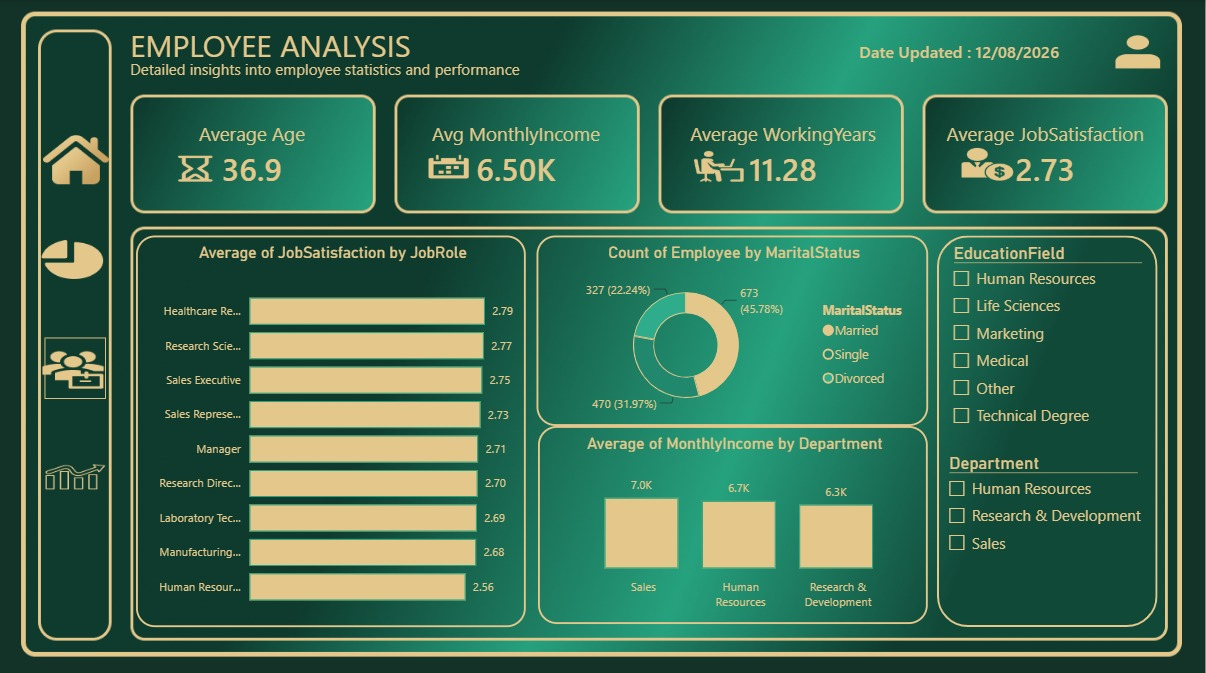

The dashboard page shown, as its layout file describes it:
{"tool":"powerbi","page":{"name":"employee analysis","canvas":[1280,720],"ordinal":2},"visuals":[{"type":"textbox","box":[135.2,20.7,380.2,54.1],"z":0},{"type":"textbox","box":[135.2,57.3,466,35],"z":1000},{"type":"image","box":[47.7,124.1,70,90.7],"z":2000},{"type":"cardVisual","fields":{"Data":["Avg(Fact Table.Age)"]},"box":[146.3,109.8,246.5,109.8],"z":3000},{"type":"cardVisual","fields":{"Data":["Avg(Fact Table.MonthlyIncome)"]},"box":[426.3,109.8,246.5,109.8],"z":4000},{"type":"cardVisual","fields":{"Data":["Avg(Fact Table.TotalWorkingYears)"]},"box":[703.1,109.8,259.3,109.8],"z":5000},{"type":"cardVisual","fields":{"Data":["Avg(Fact Table.JobSatisfaction)"]},"box":[975,109.8,272,109.8],"z":6000},{"type":"donutChart","fields":{"Y":["CountNonNull(Fact Table.EmployeeCount)"],"Category":["Fact Table.MaritalStatus"]},"box":[571,249.7,415.1,202],"z":7000},{"type":"clusteredBarChart","fields":{"Y":["Avg(Fact Table.JobSatisfaction)"],"Category":["Fact Table.JobRole"]},"box":[146.3,249.7,413.6,415.1],"z":8000},{"type":"clusteredColumnChart","fields":{"Category":["Fact Table.Department"],"Y":["Avg(Fact Table.MonthlyIncome)"]},"box":[572.6,451.7,413.6,210],"z":9000},{"type":"shape","box":[995.7,249.7,233.8,415.1],"z":10000},{"type":"slicer","fields":{"Values":["Fact Table.Department"]},"box":[995.7,475.6,225.9,128.8],"z":11000},{"type":"slicer","fields":{"Values":["Fact Table.EducationField"]},"box":[1000.5,252.9,225.9,211.6],"z":12000},{"type":"image","box":[46.1,233.8,65.2,82.7],"z":13000},{"type":"image","box":[42.9,349.9,73.2,84.3],"z":14000},{"type":"image","box":[47.7,475.6,68.4,60.4],"z":15000},{"type":"actionButton","box":[49.3,357.9,65.2,65.2],"z":16000},{"type":"actionButton","box":[42.9,84.3,68.4,79.5],"z":17000},{"type":"actionButton","box":[49.3,124.1,65.2,79.5],"z":18000},{"type":"actionButton","box":[47.7,464.5,68.4,81.1],"z":19000},{"type":"actionButton","box":[47.7,133.6,76.3,79.5],"z":20000},{"type":"image","box":[182.9,163.8,52.5,30.2],"z":21000},{"type":"image","box":[456.5,141.6,42.9,71.6],"z":22000},{"type":"image","box":[738,152.7,52.5,47.7],"z":23000},{"type":"image","box":[1021.2,149.5,55.7,49.3],"z":24000},{"type":"cardVisual","fields":{"Data":["Fact Table.Last Update Data"]},"box":[884.4,20.7,292.7,65.2],"z":25000},{"type":"image","box":[1177.1,27,63.6,55.7],"z":26000}]}

Visuals, with their boxes in screenshot pixels (x1, y1, x2, y2), scaled from the page's 1280x720 canvas onto the 1206x673 screenshot:
textbox: {"x1": 127, "y1": 19, "x2": 486, "y2": 70}
textbox: {"x1": 127, "y1": 54, "x2": 566, "y2": 86}
image: {"x1": 45, "y1": 116, "x2": 111, "y2": 201}
cardVisual - Avg(Fact Table.Age): {"x1": 138, "y1": 103, "x2": 370, "y2": 205}
cardVisual - Avg(Fact Table.MonthlyIncome): {"x1": 402, "y1": 103, "x2": 634, "y2": 205}
cardVisual - Avg(Fact Table.TotalWorkingYears): {"x1": 662, "y1": 103, "x2": 907, "y2": 205}
cardVisual - Avg(Fact Table.JobSatisfaction): {"x1": 919, "y1": 103, "x2": 1175, "y2": 205}
donutChart - CountNonNull(Fact Table.EmployeeCount) x Fact Table.MaritalStatus: {"x1": 538, "y1": 233, "x2": 929, "y2": 422}
clusteredBarChart - Avg(Fact Table.JobSatisfaction) x Fact Table.JobRole: {"x1": 138, "y1": 233, "x2": 528, "y2": 621}
clusteredColumnChart - Fact Table.Department x Avg(Fact Table.MonthlyIncome): {"x1": 539, "y1": 422, "x2": 929, "y2": 619}
shape: {"x1": 938, "y1": 233, "x2": 1158, "y2": 621}
slicer - Fact Table.Department: {"x1": 938, "y1": 445, "x2": 1151, "y2": 565}
slicer - Fact Table.EducationField: {"x1": 943, "y1": 236, "x2": 1155, "y2": 434}
image: {"x1": 43, "y1": 219, "x2": 105, "y2": 296}
image: {"x1": 40, "y1": 327, "x2": 109, "y2": 406}
image: {"x1": 45, "y1": 445, "x2": 109, "y2": 501}
actionButton: {"x1": 46, "y1": 335, "x2": 108, "y2": 395}
actionButton: {"x1": 40, "y1": 79, "x2": 105, "y2": 153}
actionButton: {"x1": 46, "y1": 116, "x2": 108, "y2": 190}
actionButton: {"x1": 45, "y1": 434, "x2": 109, "y2": 510}
actionButton: {"x1": 45, "y1": 125, "x2": 117, "y2": 199}
image: {"x1": 172, "y1": 153, "x2": 222, "y2": 181}
image: {"x1": 430, "y1": 132, "x2": 471, "y2": 199}
image: {"x1": 695, "y1": 143, "x2": 745, "y2": 187}
image: {"x1": 962, "y1": 140, "x2": 1015, "y2": 186}
cardVisual - Fact Table.Last Update Data: {"x1": 833, "y1": 19, "x2": 1109, "y2": 80}
image: {"x1": 1109, "y1": 25, "x2": 1169, "y2": 77}
